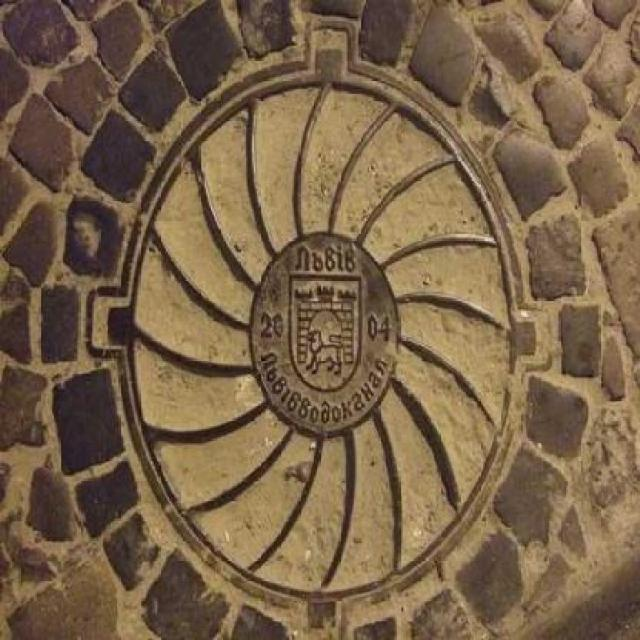Manhole: (63, 13, 580, 630)
